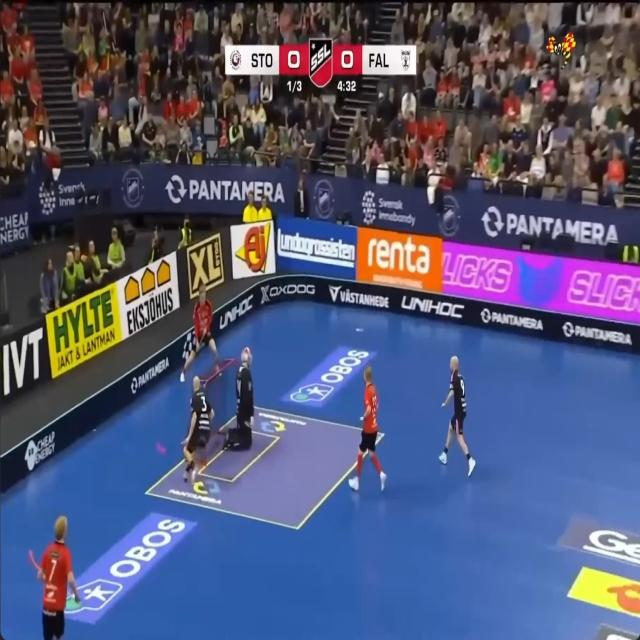player: (38, 516, 80, 639), (348, 365, 386, 490), (439, 355, 476, 475), (181, 285, 217, 382), (183, 377, 213, 482), (224, 347, 254, 450)
stick: (28, 550, 38, 569)
